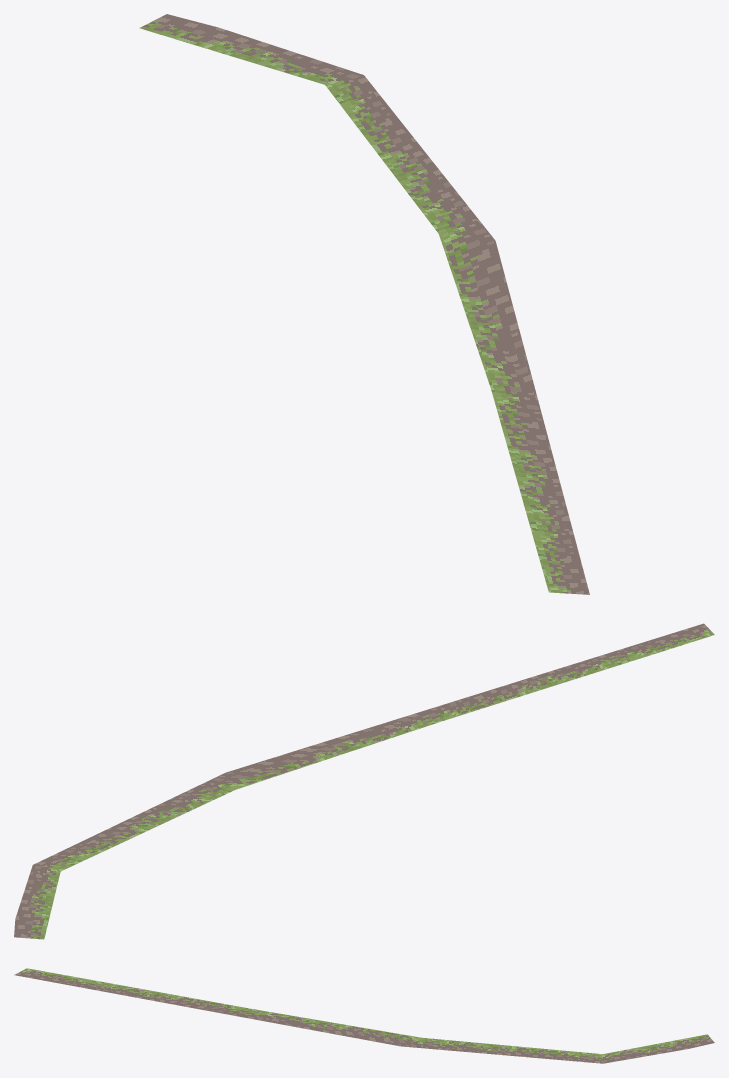
The model's file is kd_connection_town-ground_surface_3_50.glb.
3 renders of one model, top to bottom at view 1: azimuth 30°, elevation 25°; view 2: azimuth 150°, elevation 25°; view 3: azimuth 270°, elevation 25°, orthographic. The views are drawn at different scales.
Visible parts, largest first — view 1: kd_connection_town-ground_surface_3_50; view 2: kd_connection_town-ground_surface_3_50; view 3: kd_connection_town-ground_surface_3_50.
Boxes of the visible parts, x1,y1,x2,y2 form: kd_connection_town-ground_surface_3_50: (139, 14, 589, 594); kd_connection_town-ground_surface_3_50: (14, 623, 714, 939); kd_connection_town-ground_surface_3_50: (14, 968, 714, 1063).
Bounding box in the file's own units: 0.3698 × 1.19e-06 × 1.15.
1 material, 1 textured.
